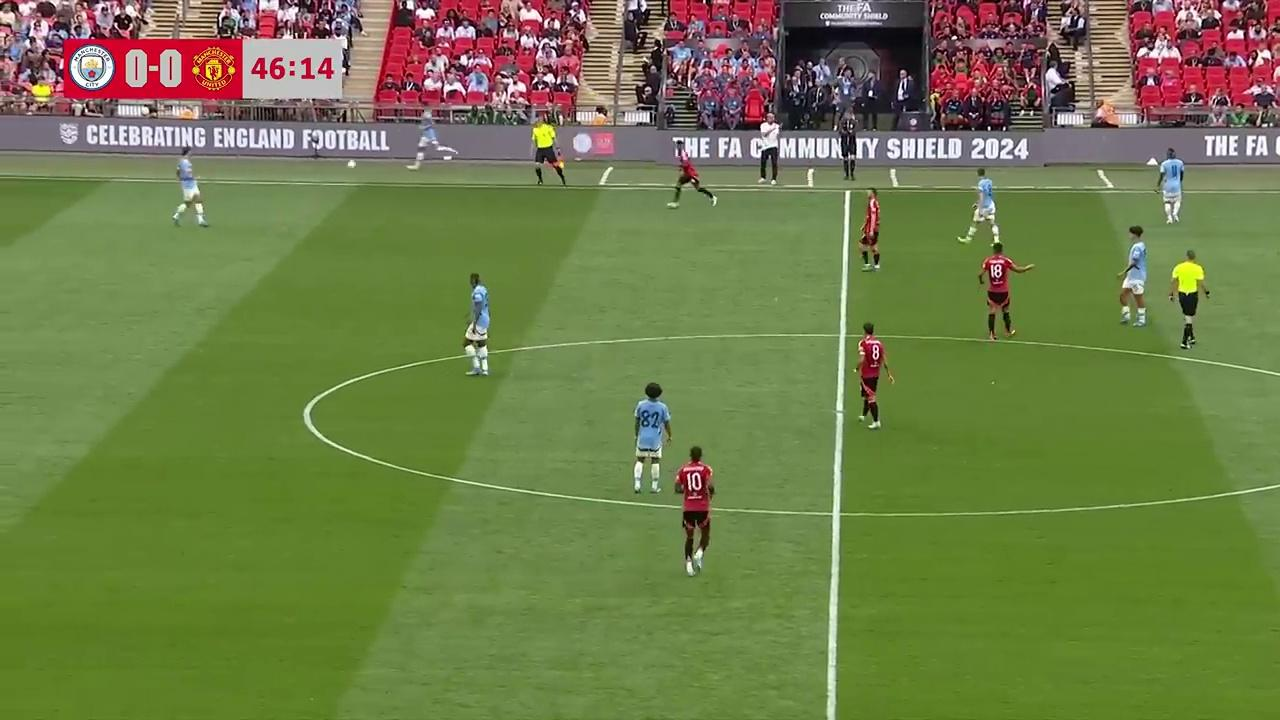player: (672, 445, 716, 575), (977, 245, 1034, 340), (631, 383, 672, 494), (853, 322, 895, 430), (667, 142, 716, 208), (1117, 225, 1147, 327), (463, 271, 492, 376), (959, 168, 999, 243), (172, 150, 209, 227), (1156, 148, 1186, 223), (858, 188, 881, 271)
referee: (1168, 248, 1210, 348), (532, 124, 566, 187)
